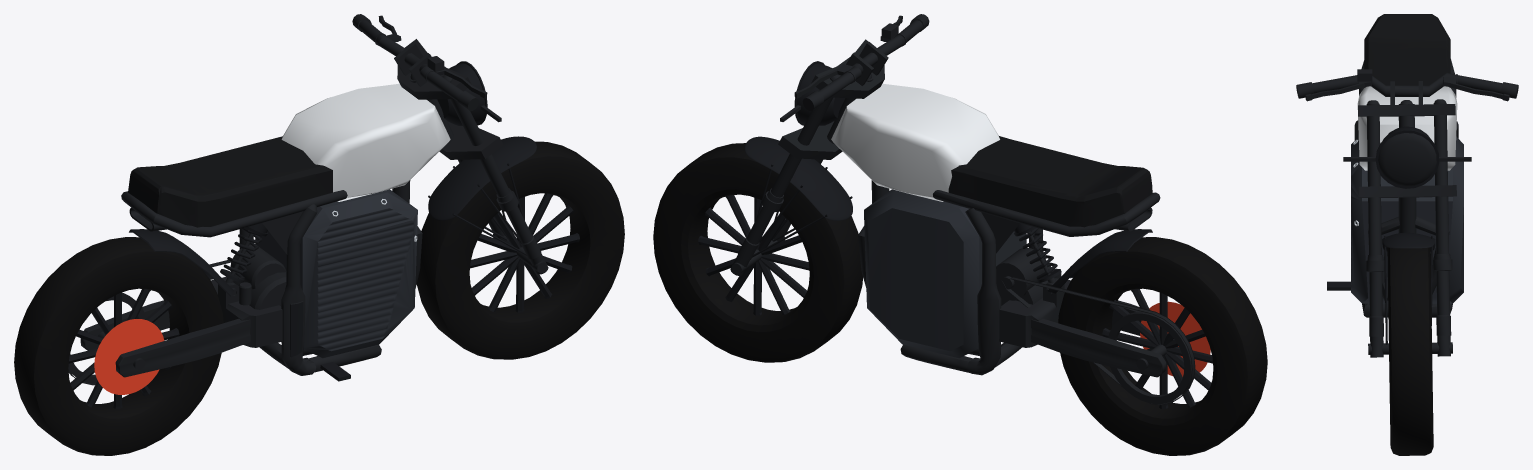
File: road.glb
The picture shows the model from 3 angles, left to right: view 1: azimuth 30°, elevation 25°; view 2: azimuth 150°, elevation 25°; view 3: azimuth 270°, elevation 25°; orthographic projection. The views are drawn at different scales.
Parts seen in each view (by area): view 1: Front_tire_2, Front_tire, Boole, tank, seat, Cube_5, Null_1, Subdivision_Surface_1, Disc, Cylinder_7, Cylinder_5, motor_base (+10 smaller); view 2: Front_tire_2, Front_tire, Boole, tank, seat, Cube_5, Subdivision_Surface_1, Null_1, Cylinder_7, Cylinder_5, motor_base, Tube_2_2 (+11 smaller); view 3: Front_tire, Cylinder_7, Boole, seat, Cylinder_5_2, tank, Cylinder, Cube_3_5, Cube_3_6, Cylinder_3_2, Subdivision_Surface_1, Cube_3_4 (+8 smaller).
Boxes of the visible parts, x1,y1,x2,y2 form: Front_tire_2: [14, 237, 223, 455]; Front_tire: [416, 141, 624, 359]; Boole: [255, 189, 417, 358]; tank: [281, 83, 450, 201]; seat: [128, 136, 332, 227]; Cube_5: [80, 300, 250, 377]; Null_1: [239, 204, 317, 375]; Subdivision_Surface_1: [428, 136, 536, 220]; Disc: [94, 319, 164, 394]; Cylinder_7: [442, 75, 548, 274]; Cylinder_5: [121, 190, 347, 237]; motor_base: [211, 276, 282, 347]; Front_tire_2: [1058, 237, 1267, 455]; Front_tire: [653, 143, 862, 362]; Boole: [864, 189, 1026, 358]; tank: [831, 83, 999, 201]; seat: [948, 136, 1152, 227]; Cube_5: [1031, 300, 1165, 377]; Subdivision_Surface_1: [744, 136, 852, 220]; Null_1: [965, 208, 1046, 375]; Cylinder_7: [730, 74, 840, 275]; Cylinder_5: [933, 190, 1160, 236]; motor_base: [999, 278, 1070, 347]; Tube_2_2: [1108, 311, 1191, 403]; Front_tire: [1387, 247, 1433, 455]; Cylinder_7: [1366, 99, 1452, 357]; Boole: [1351, 136, 1463, 303]; seat: [1364, 14, 1450, 87]; Cylinder_5_2: [1375, 126, 1439, 188]; tank: [1357, 86, 1457, 170]; Cylinder: [1312, 72, 1502, 96]; Cube_3_5: [1358, 104, 1455, 116]; Cube_3_6: [1359, 185, 1456, 197]; Cylinder_3_2: [1368, 216, 1449, 300]; Subdivision_Surface_1: [1382, 232, 1435, 251]; Cube_3_4: [1305, 82, 1509, 101].
Size of the model in its own units: 2.02 by 1.09 by 0.6771.
